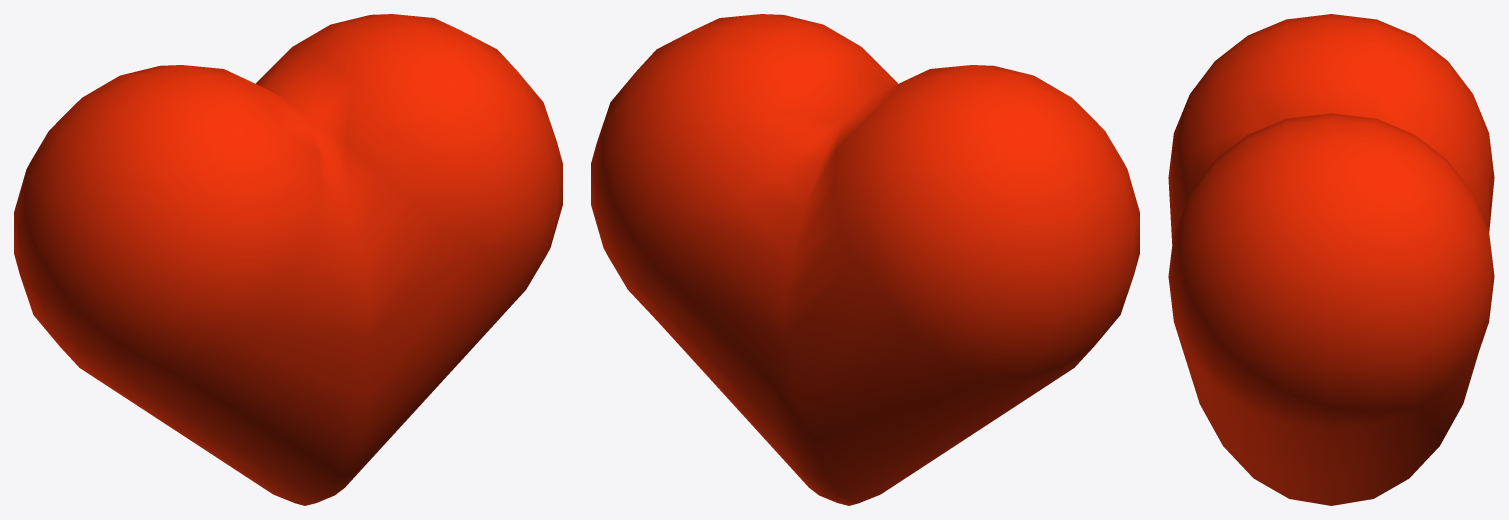
Rendered from Collectable_Heart_01.fbx.
3 views of the same model, side by side, from view 1: azimuth 30°, elevation 25°; view 2: azimuth 150°, elevation 25°; view 3: azimuth 270°, elevation 25° (orthographic). The views are drawn at different scales.
Visible parts, largest first — view 1: Collectable_Heart_01; view 2: Collectable_Heart_01; view 3: Collectable_Heart_01.
Boxes of the visible parts, box(x1,y1,x2,y2) form: Collectable_Heart_01: box(14, 14, 562, 505); Collectable_Heart_01: box(591, 14, 1139, 505); Collectable_Heart_01: box(1168, 14, 1494, 505).
Size of the model in its own units: 98.55 by 82.66 by 57.77.
